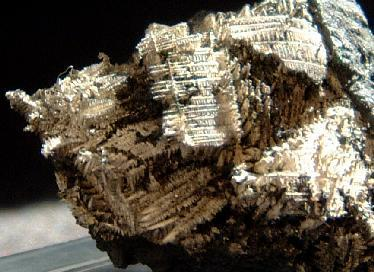silver: (6, 59, 223, 242), (138, 0, 327, 146), (234, 99, 374, 236), (312, 0, 374, 128)
